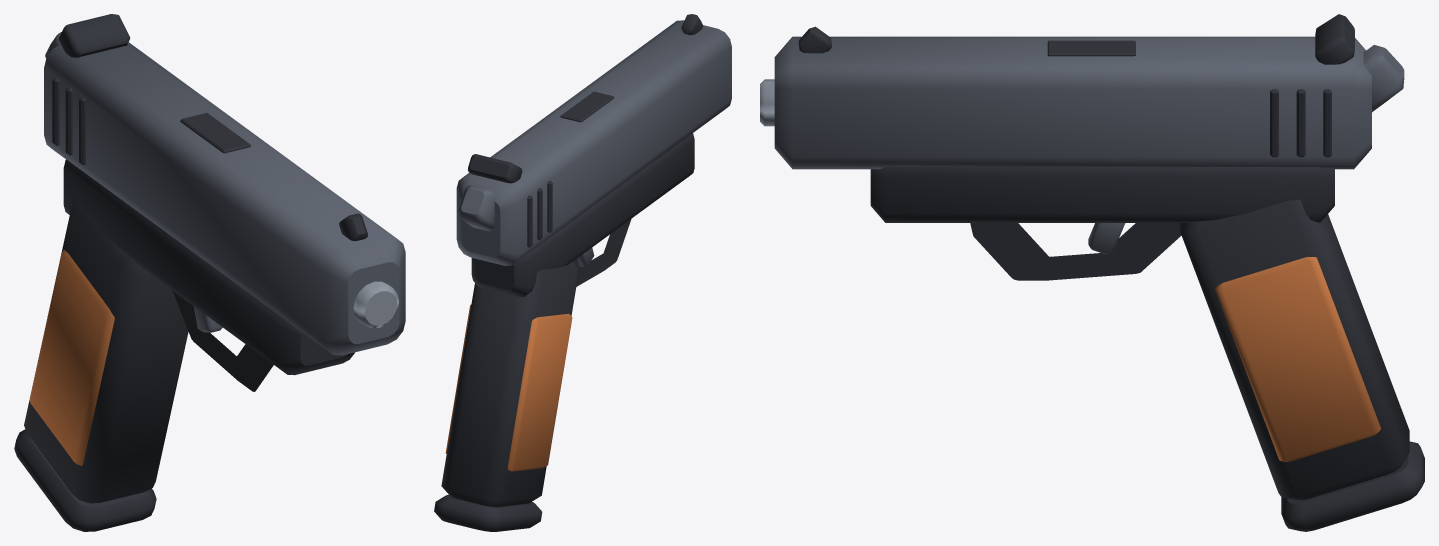
The model's file is pistolet.glb.
3 renders of one model, left to right at view 1: azimuth 30°, elevation 25°; view 2: azimuth 150°, elevation 25°; view 3: azimuth 270°, elevation 25°, orthographic. The views are drawn at different scales.
Parts seen in each view (by area): view 1: culasse, corps, chargeur; view 2: corps, culasse, chargeur; view 3: culasse, corps, chargeur, detente.
Boxes of the visible parts, x1=… form: culasse: x1=44, y1=14, x2=405, y2=355; corps: x1=24, y1=32, x2=398, y2=503; chargeur: x1=14, y1=429, x2=156, y2=531; corps: x1=441, y1=133, x2=694, y2=506; culasse: x1=456, y1=14, x2=731, y2=265; chargeur: x1=434, y1=495, x2=542, y2=531; culasse: x1=774, y1=14, x2=1371, y2=169; corps: x1=760, y1=45, x2=1409, y2=500; chargeur: x1=1281, y1=441, x2=1424, y2=531; detente: x1=1088, y1=223, x2=1125, y2=254.
Bounding box in the file's own units: 0.035 × 0.1843 × 0.2255.
